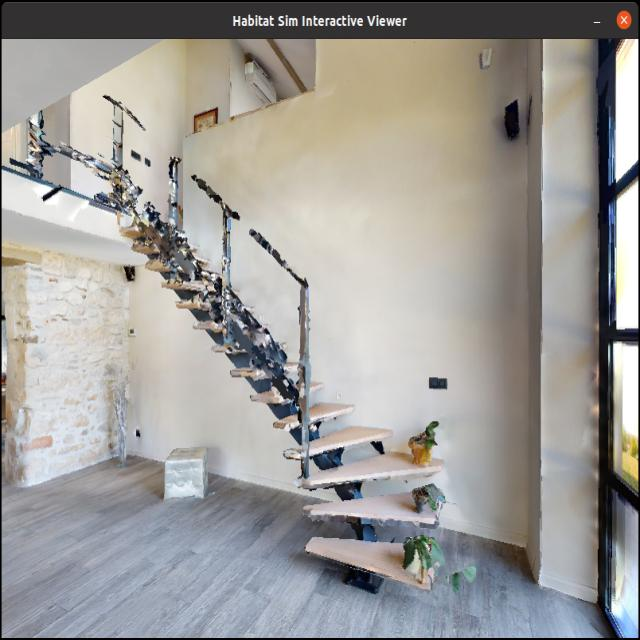stairs: (160, 232, 448, 591)
